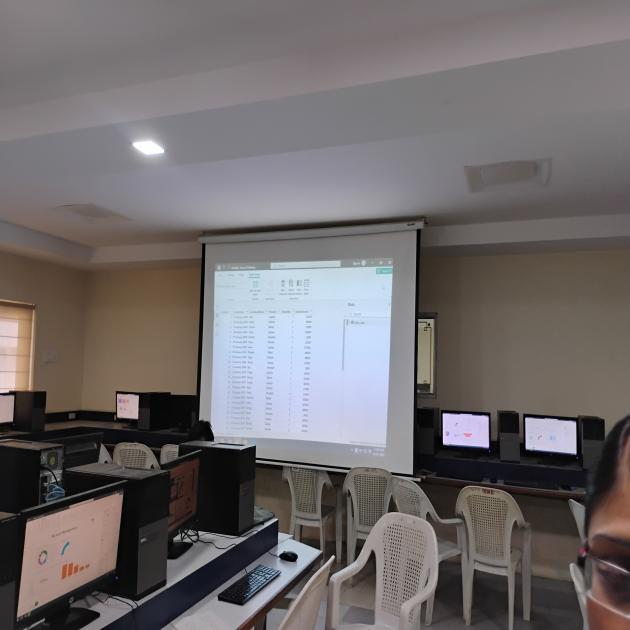cpu: (496, 408, 524, 476)
light: (128, 118, 183, 181)
projector: (191, 216, 434, 474)
windowscreen: (0, 284, 52, 411)
